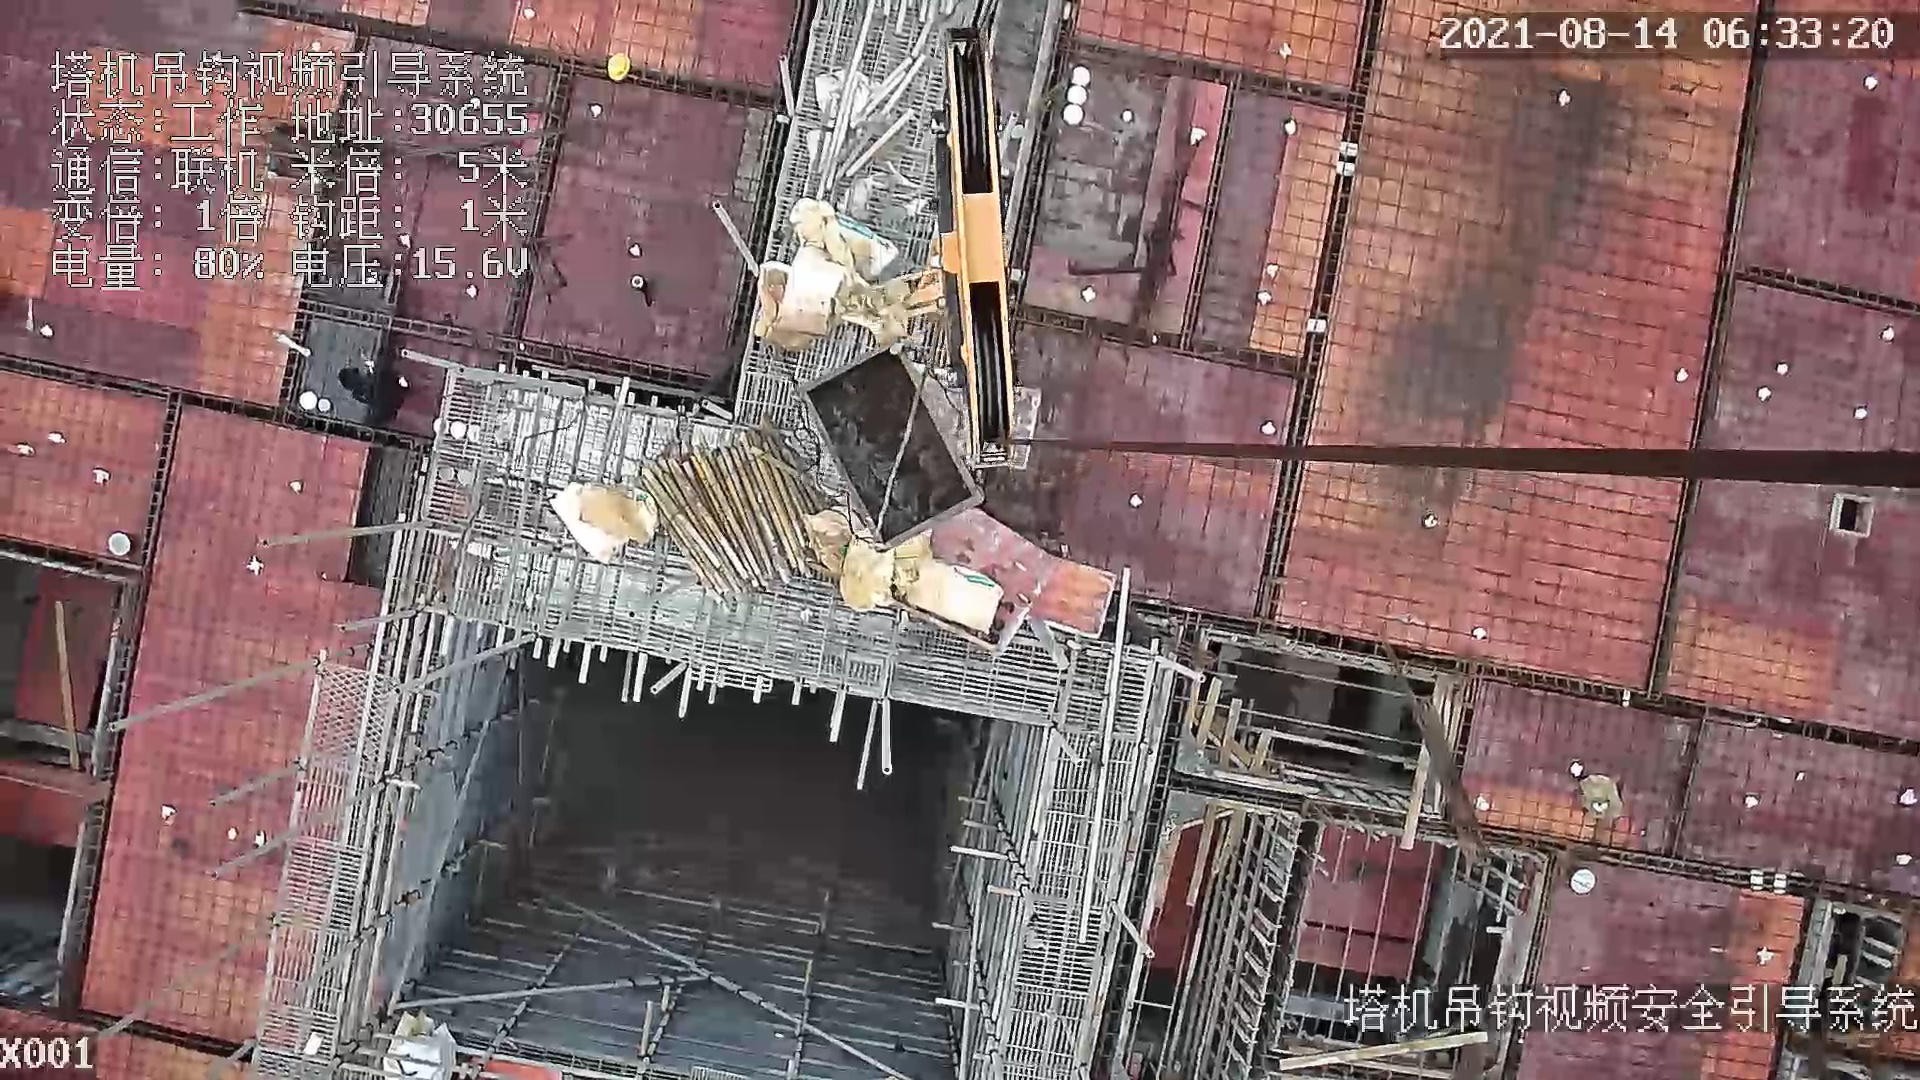helmet: (606, 52, 631, 86)
hook: (896, 26, 1018, 471)
hopper: (803, 355, 983, 560)
person: (337, 344, 412, 423)
scaffold: (636, 430, 820, 610)
